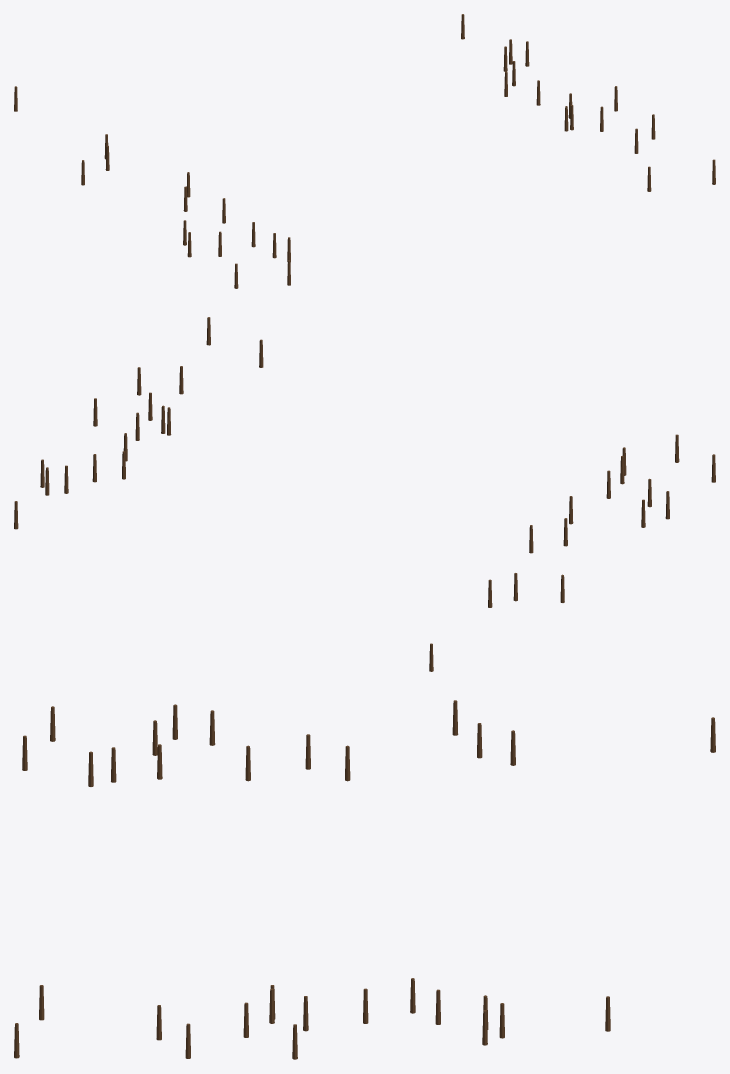
Rendered from TreeTrunks.fbx.
3 views of the same model, one above another, from view 1: azimuth 30°, elevation 25°; view 2: azimuth 150°, elevation 25°; view 3: azimuth 270°, elevation 25° (orthographic). The views are drawn at different scales.
Visible parts, largest first — view 1: Trunk0.001; view 2: Trunk0.001; view 3: Trunk0.001.
Boxes of the visible parts, x1,y1,x2,y2 form: Trunk0.001: (14, 14, 715, 288); Trunk0.001: (14, 317, 715, 671); Trunk0.001: (14, 700, 715, 1059).
Bounding box in the file's own units: 24981 × 1200 × 22716.
